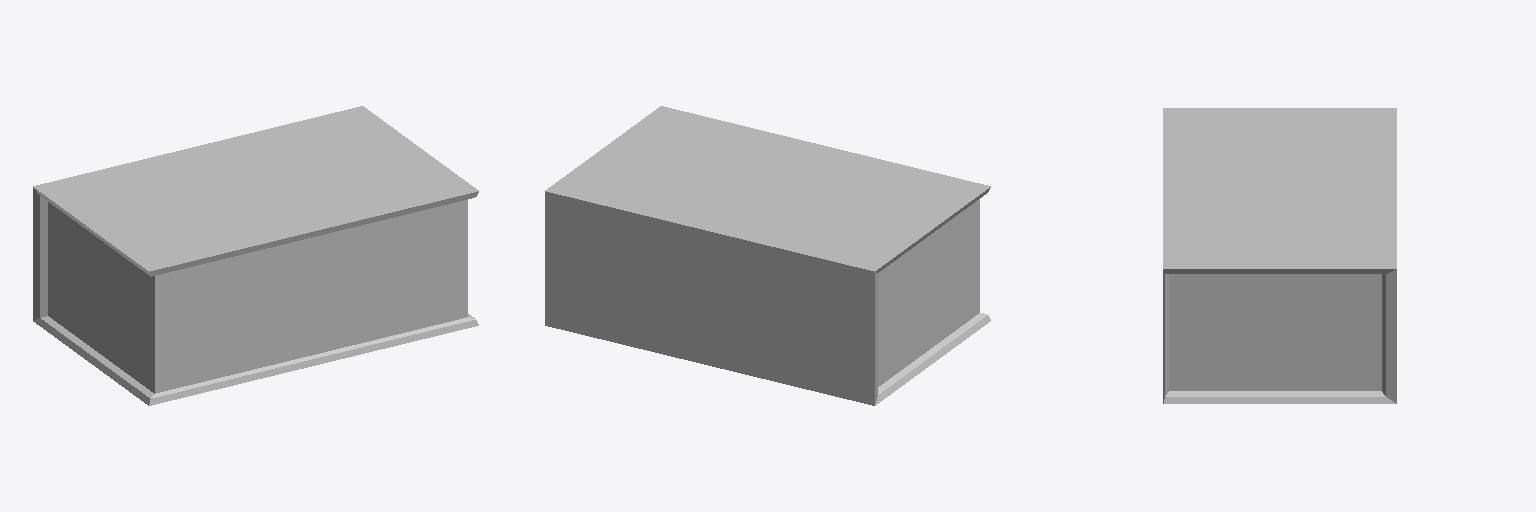
File: caixinhapendrive.obj
The picture shows the model from 3 angles: view 1: azimuth 30°, elevation 25°; view 2: azimuth 150°, elevation 25°; view 3: azimuth 270°, elevation 25°; orthographic projection.
Parts seen in each view (by area): view 1: Cubo; view 2: Cubo; view 3: Cubo.
Boxes of the visible parts, <box> form: Cubo: <box>33,106,478,405</box>; Cubo: <box>545,106,990,405</box>; Cubo: <box>1163,108,1396,403</box>.
Bounding box in the file's own units: 0.81 × 0.315 × 0.495.